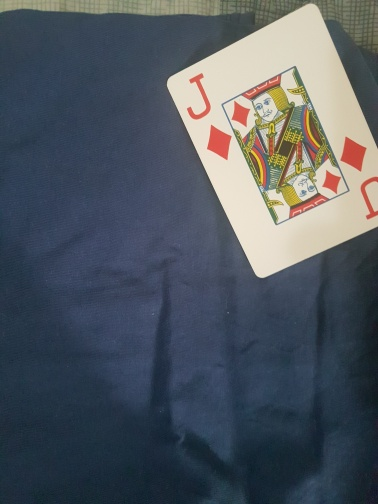jack: (165, 4, 378, 280)
